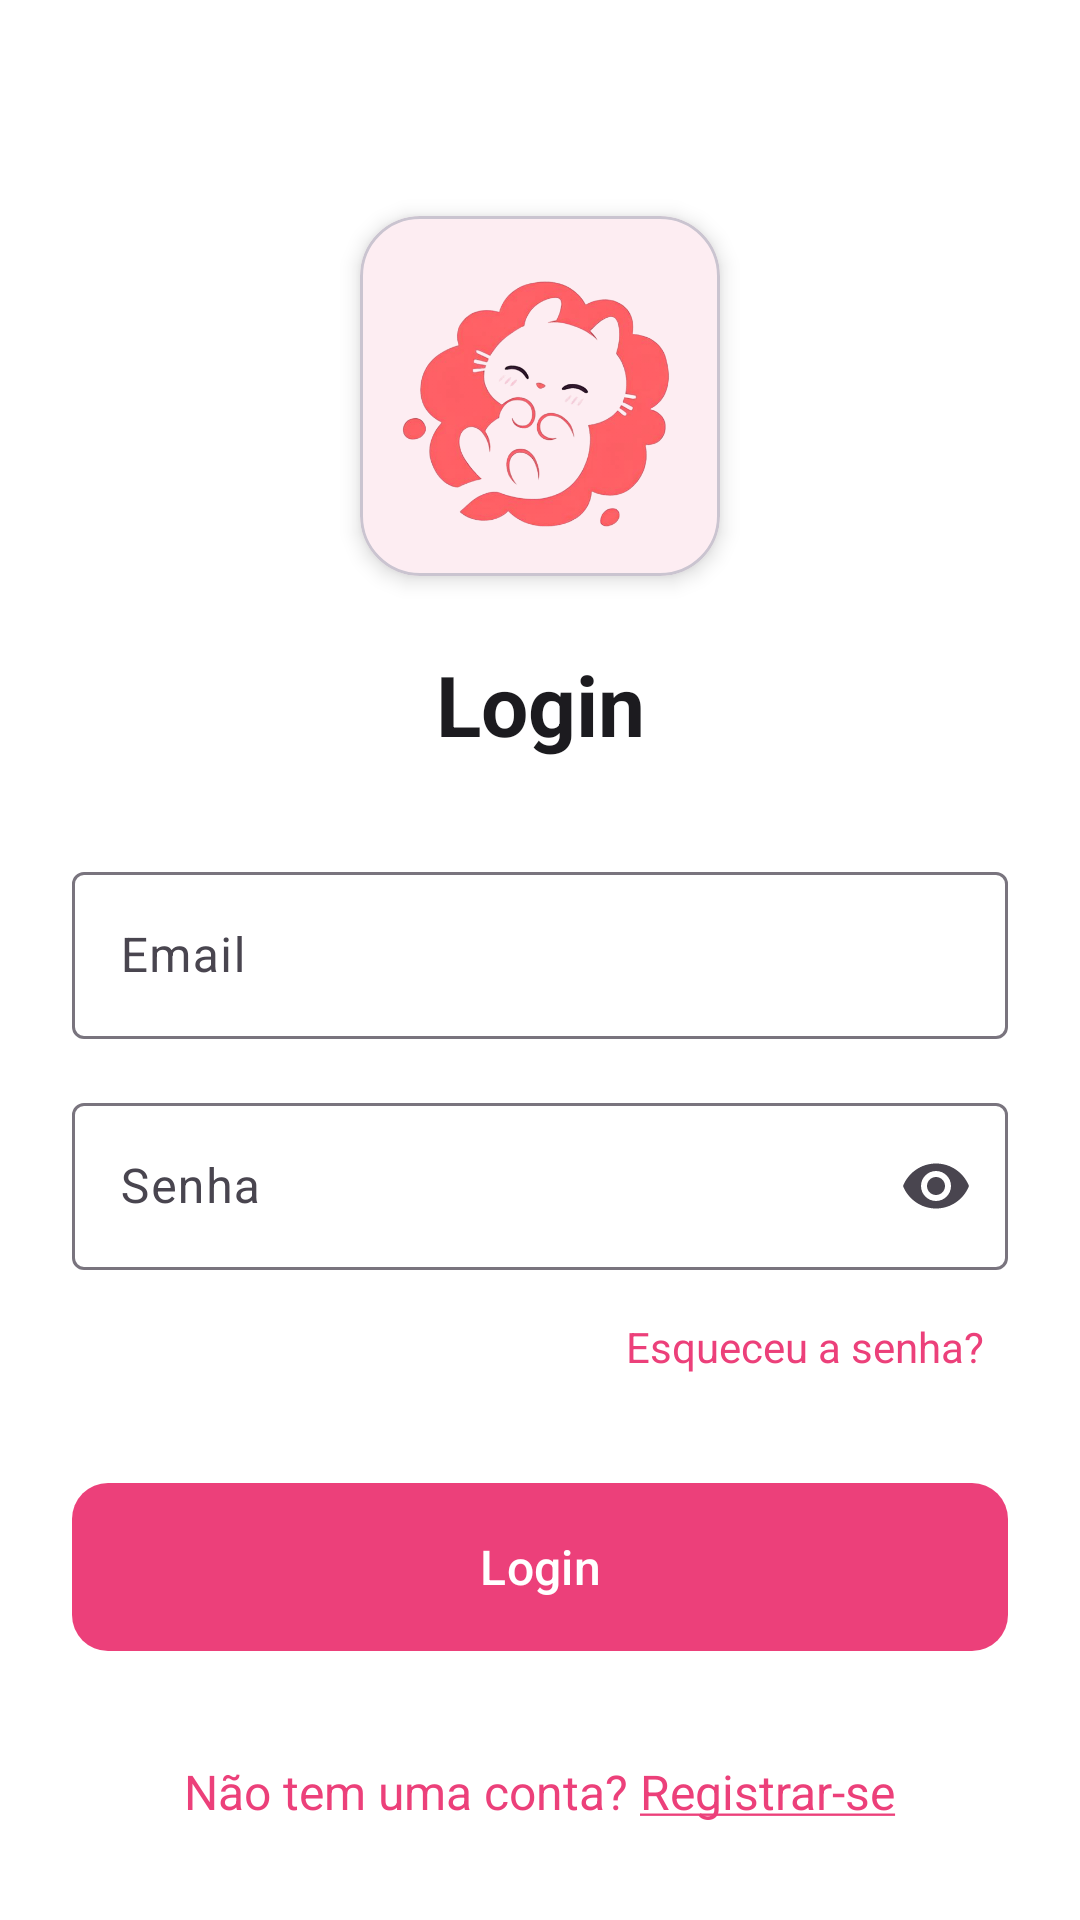

Where to tap for icons on this 1080px×1920px app screen, as (x=x, y=y):
socialcat: (x=540, y=396)
